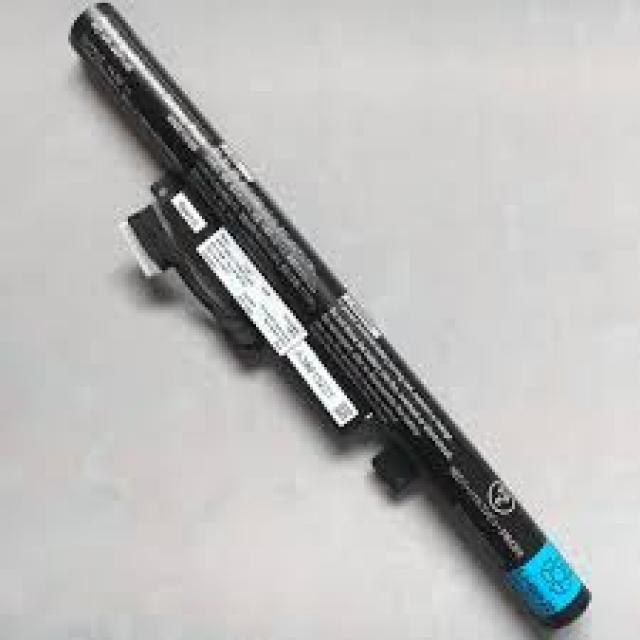battery: (59, 0, 590, 630)
